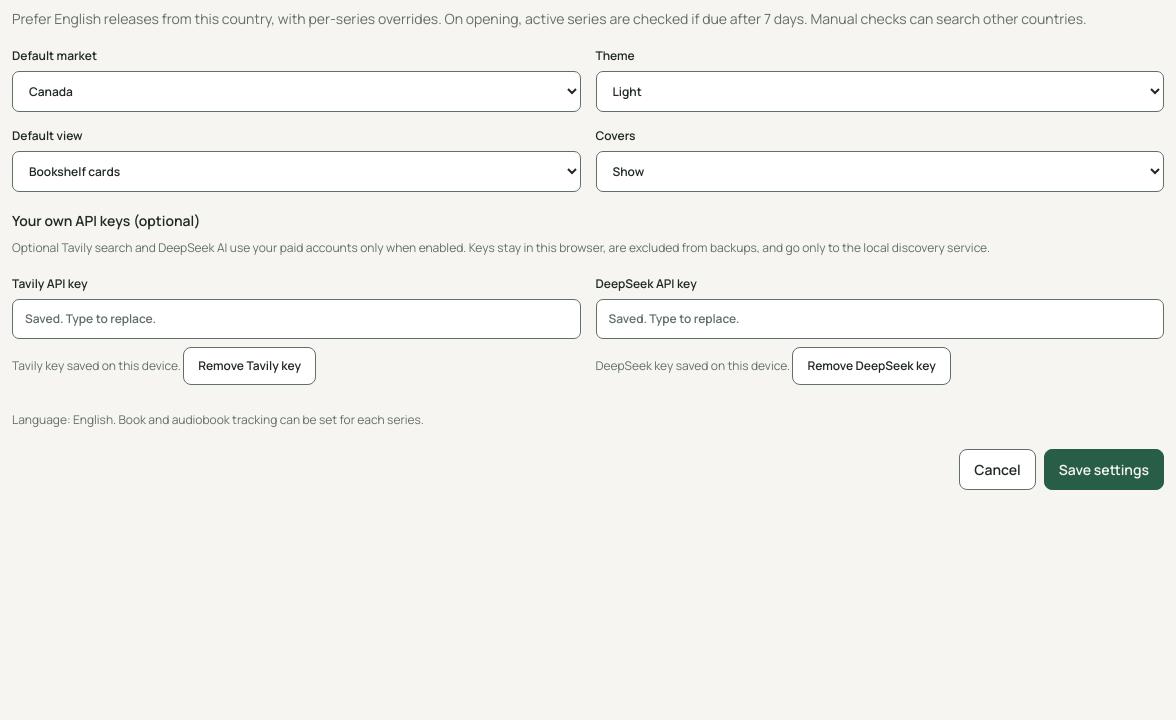
Test: a saved key can be removed
The image size is (1176, 720).
Click the button "Remove Tavily key" at (250, 366), box [183,347,316,385]
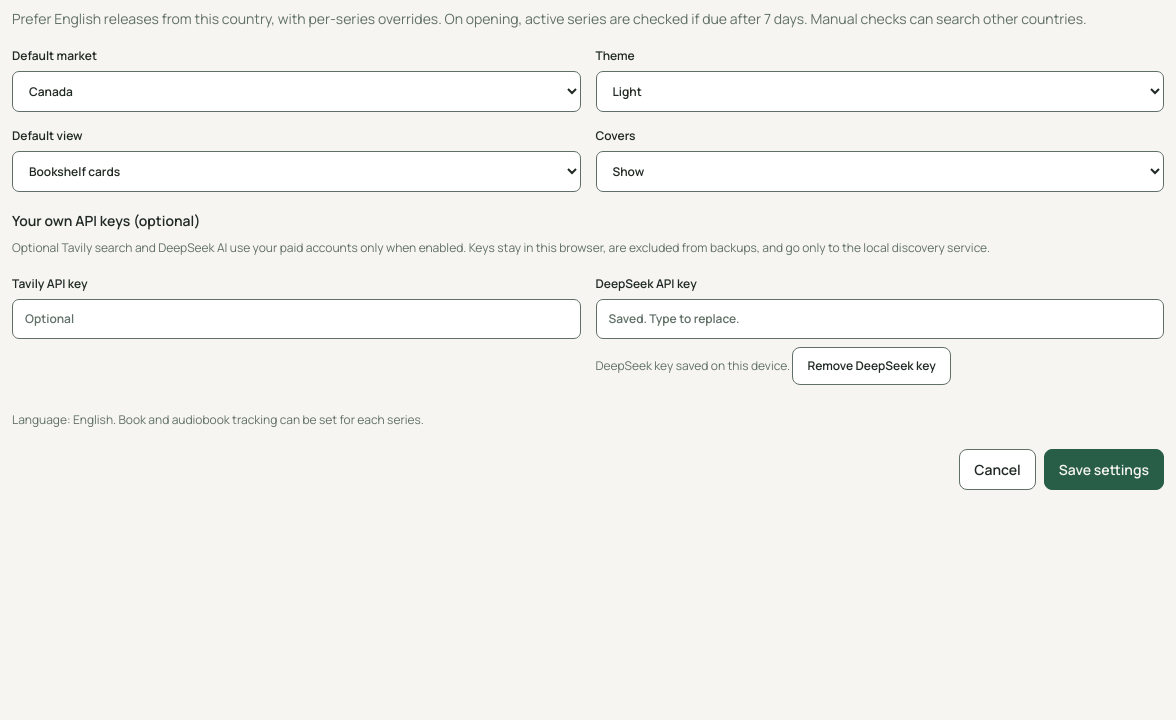
Expected: the text "Tavily key saved on this device." is gone
